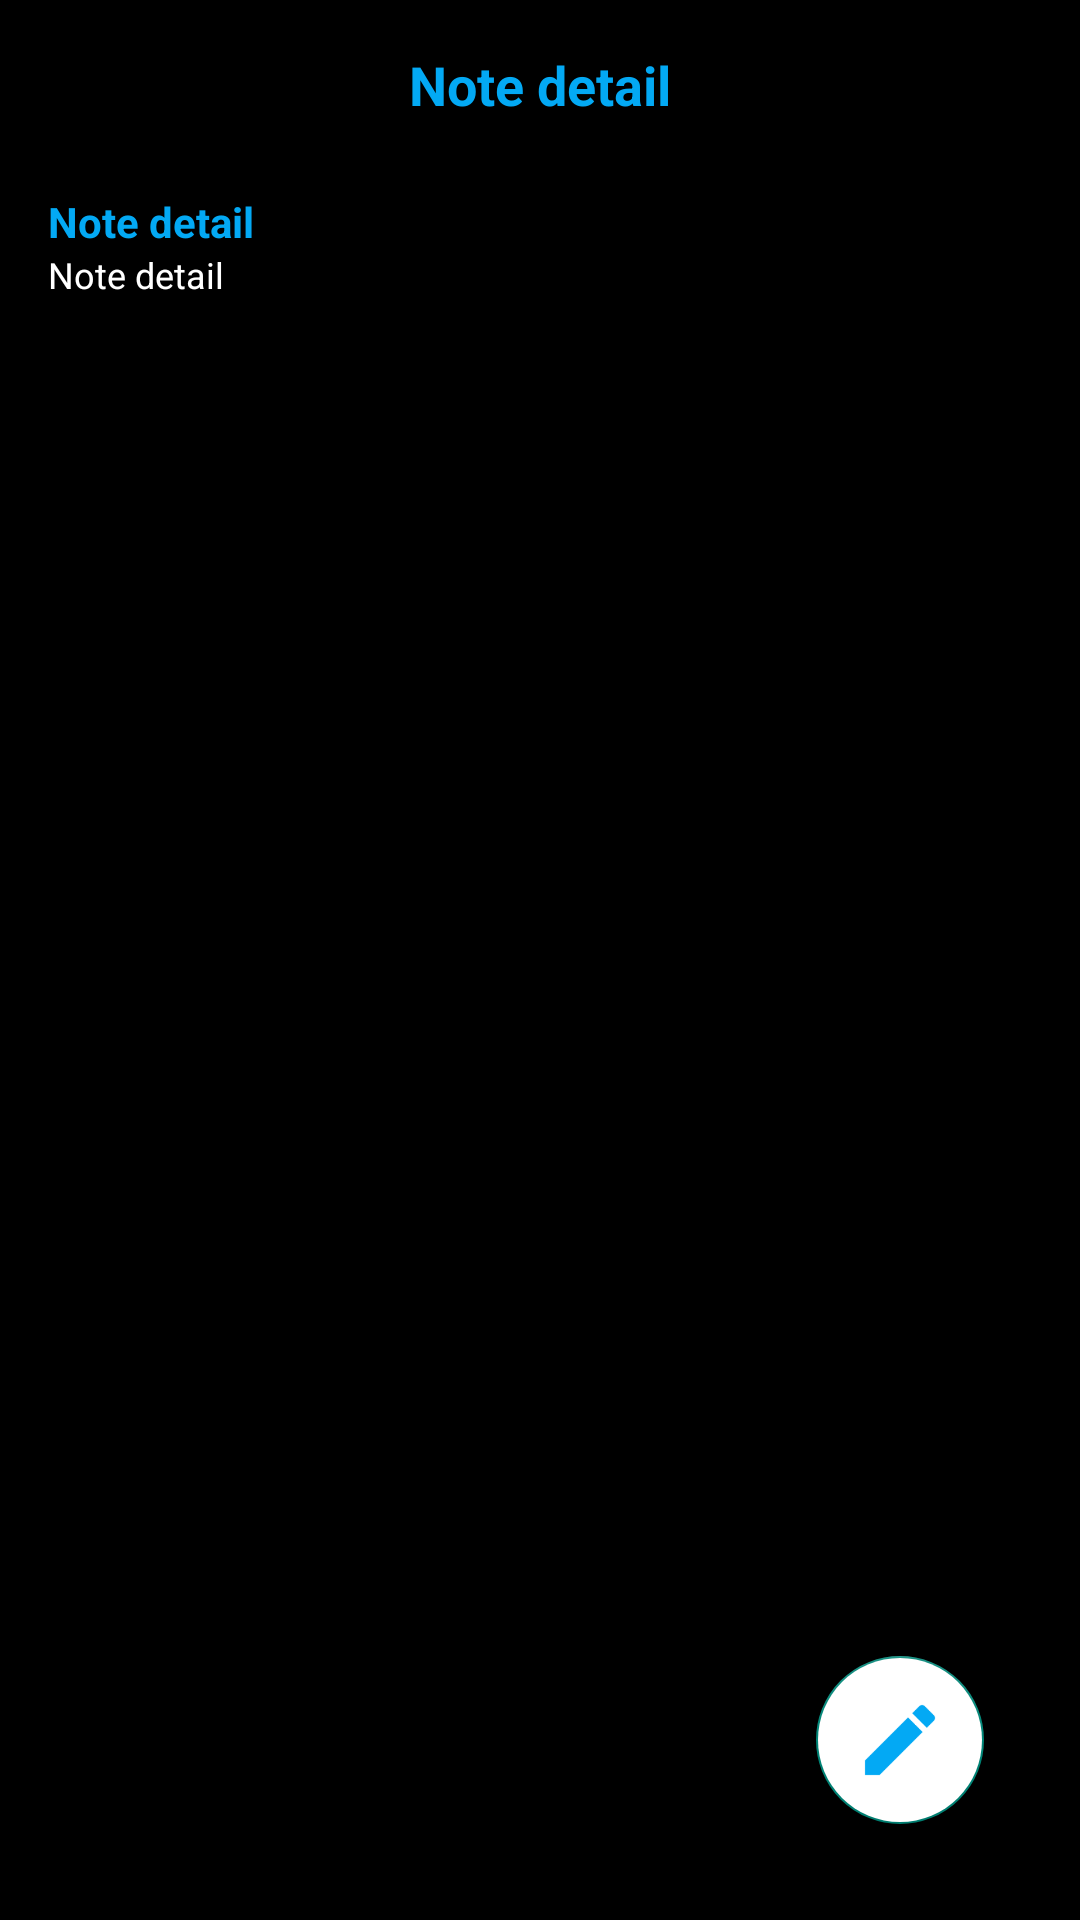

Icons on this 1080×1920 Android screen, each with its box as (x1, y1, x2, y2):
edit: (816, 1656, 984, 1824)
